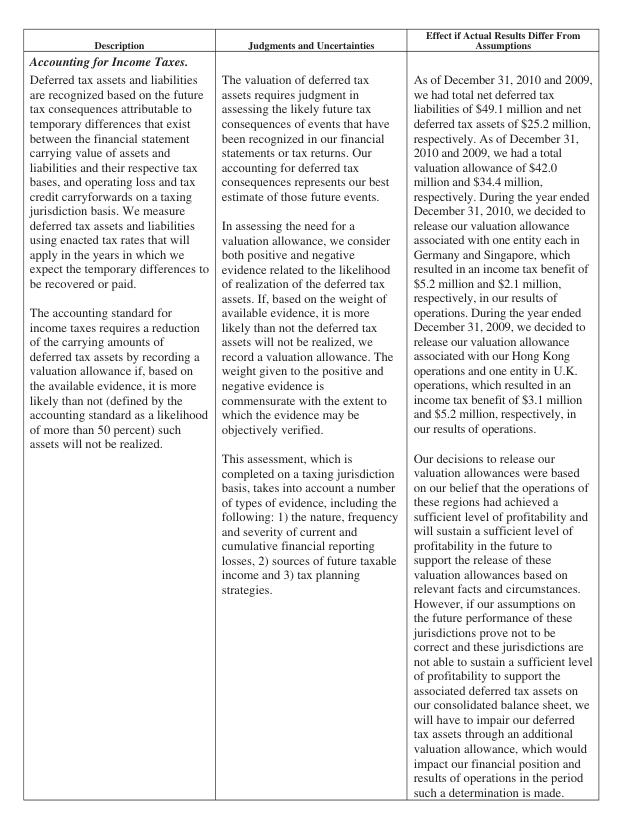table: (28, 28, 591, 798)
table column: (214, 28, 404, 798), (404, 28, 591, 798), (28, 28, 214, 798)
table column header: (28, 28, 591, 51)
table projected row header: (28, 51, 591, 69)
table row: (28, 69, 591, 798), (28, 28, 591, 51), (28, 51, 591, 69)
